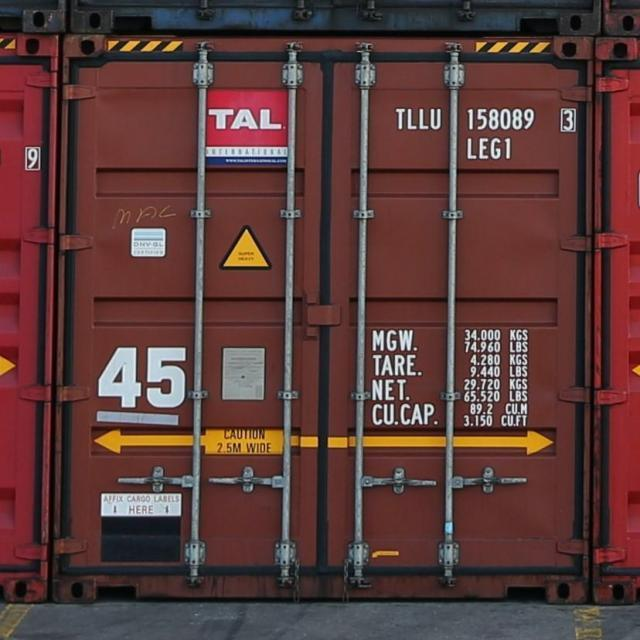ISO: (470, 138, 514, 160)
container_number: (396, 104, 574, 132)
